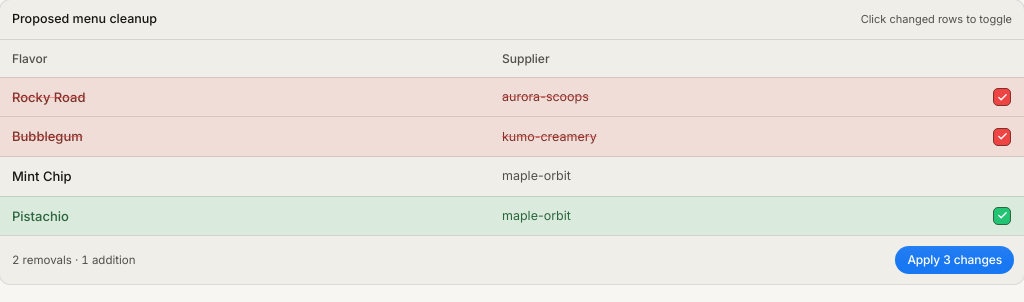
Test: DiffTable — toggling › disables Apply when every change is excluded
Click the checkbox named "Include removing Rocky Road" at (1002, 97), box [993,88,1011,106]
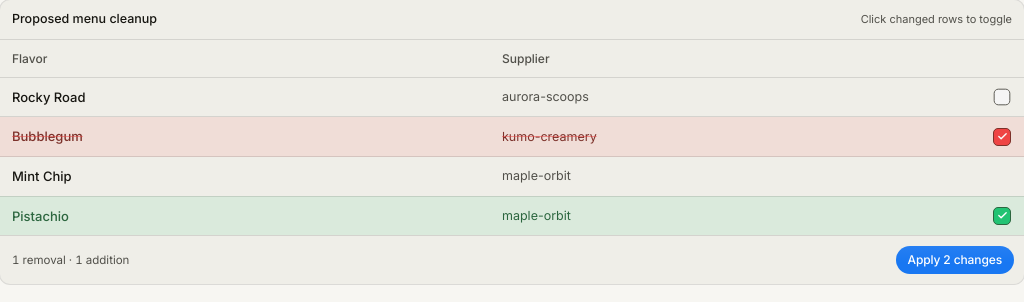
Click the checkbox named "Include removing Bubblegum" at (1002, 137), box [993,128,1011,146]
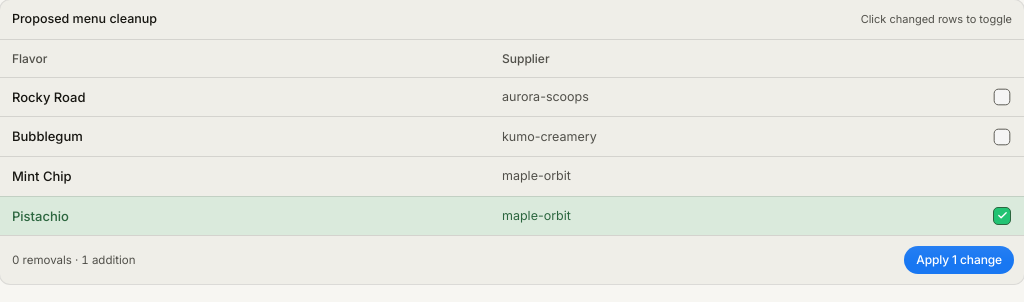
Click the checkbox named "Include adding Pistachio" at (1002, 216), box [993,207,1011,225]
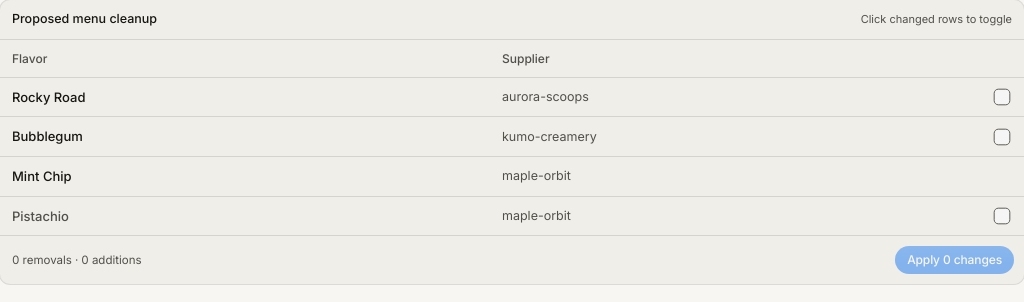
Now the button "Apply 0 changes" is disabled, box [895,246,1014,274]
